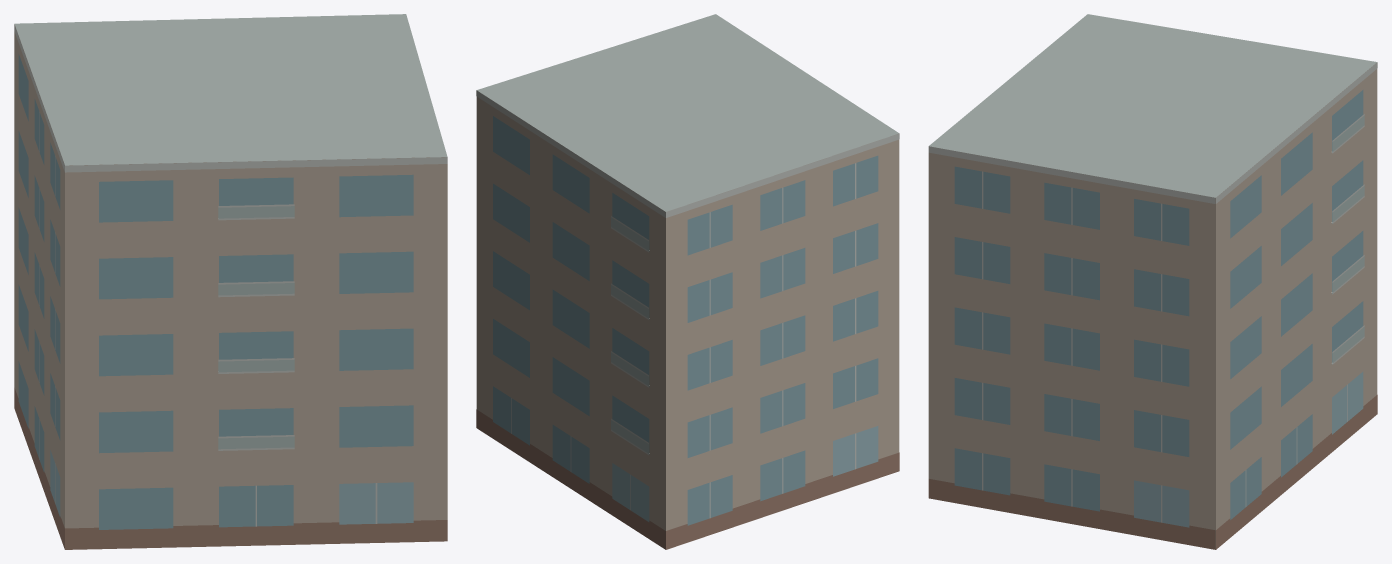
File: survey-upis-32931015.glb
3 renders of one model, left to right at view 1: azimuth 30°, elevation 25°; view 2: azimuth 150°, elevation 25°; view 3: azimuth 270°, elevation 25°, orthographic. The views are drawn at different scales.
Visible parts, largest first — view 1: survey-upis-32931015.tmp; view 2: survey-upis-32931015.tmp; view 3: survey-upis-32931015.tmp.
Part boxes in pixels (bbox=[...]): survey-upis-32931015.tmp: bbox=[14, 14, 447, 549]; survey-upis-32931015.tmp: bbox=[476, 14, 899, 549]; survey-upis-32931015.tmp: bbox=[928, 14, 1377, 549].
Bounding box in the file's own units: 15.07 × 13.45 × 15.55.
